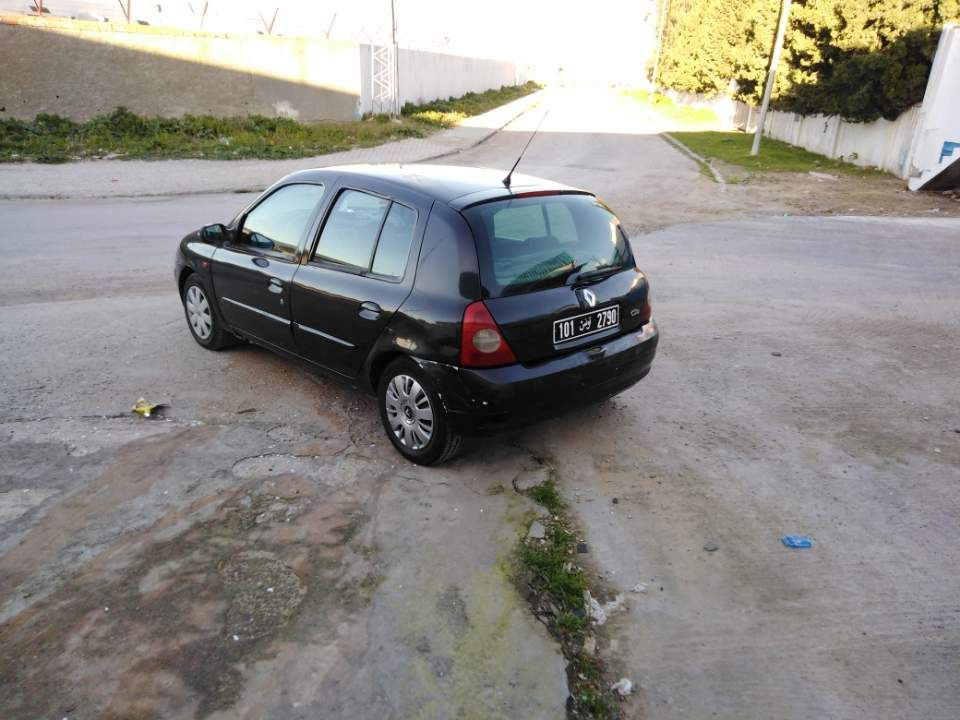LP: (553, 302, 621, 344)
